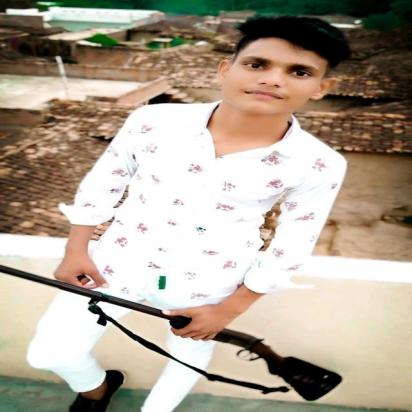Gun: (0, 264, 348, 404)
